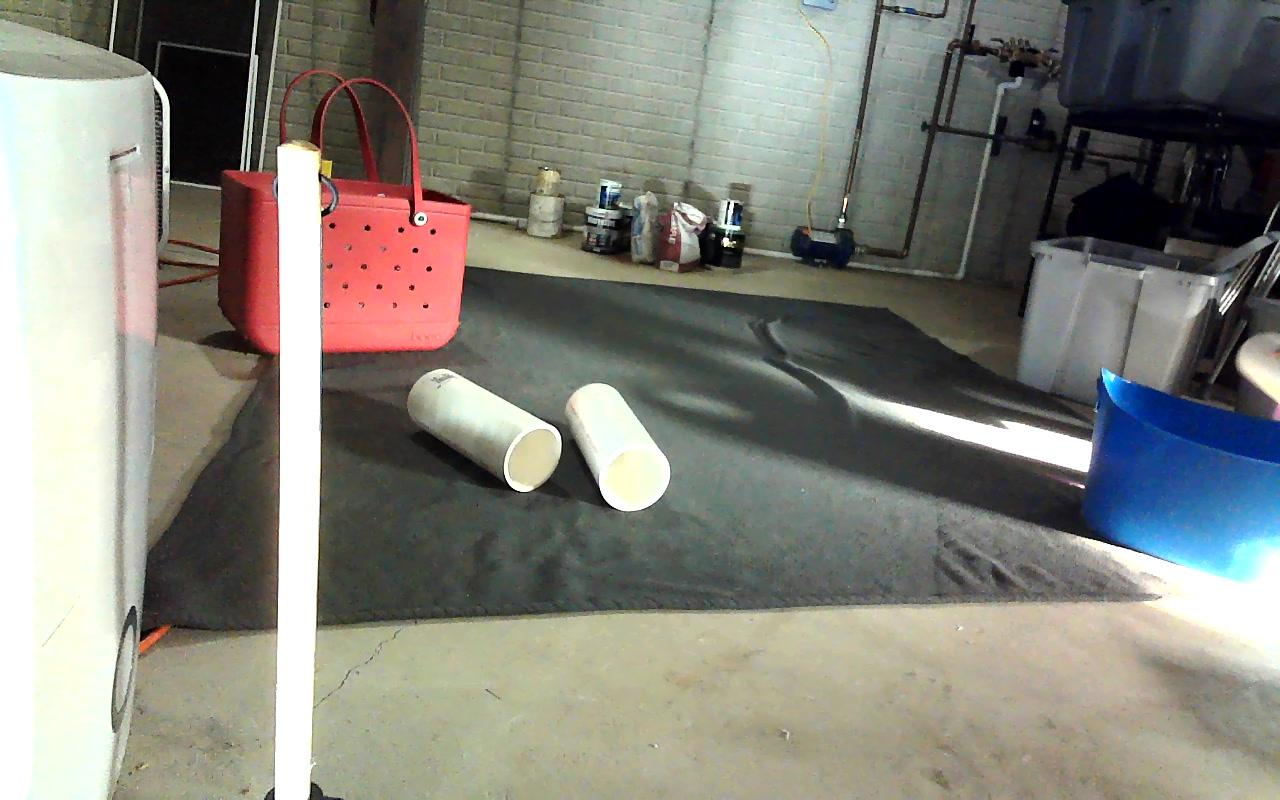coral: (407, 368, 564, 491), (565, 382, 668, 511), (1235, 331, 1278, 426)
